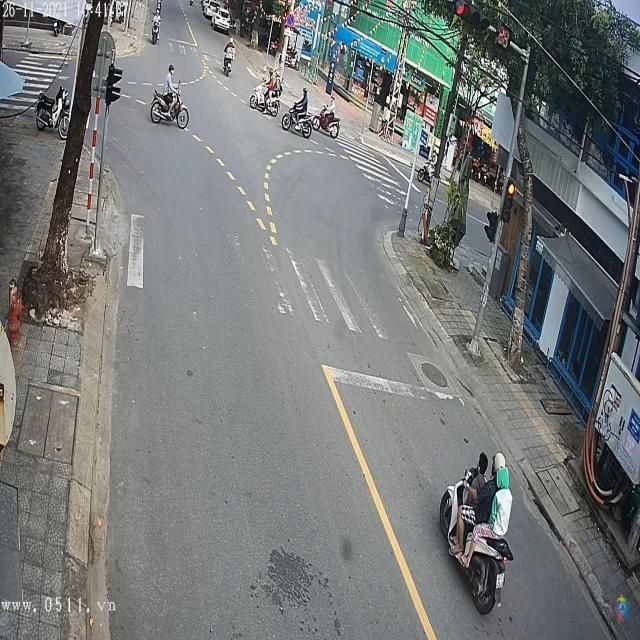motorcycle: (437, 472, 511, 622), (148, 82, 191, 128), (249, 74, 280, 119), (281, 95, 312, 139), (280, 97, 312, 136), (312, 105, 340, 138), (223, 44, 236, 76)
